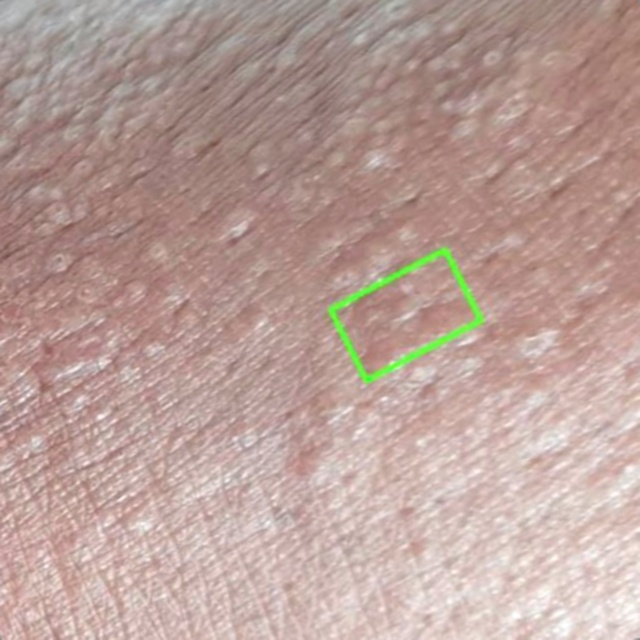Seborrheic Dermatitis: (329, 250, 481, 380)
